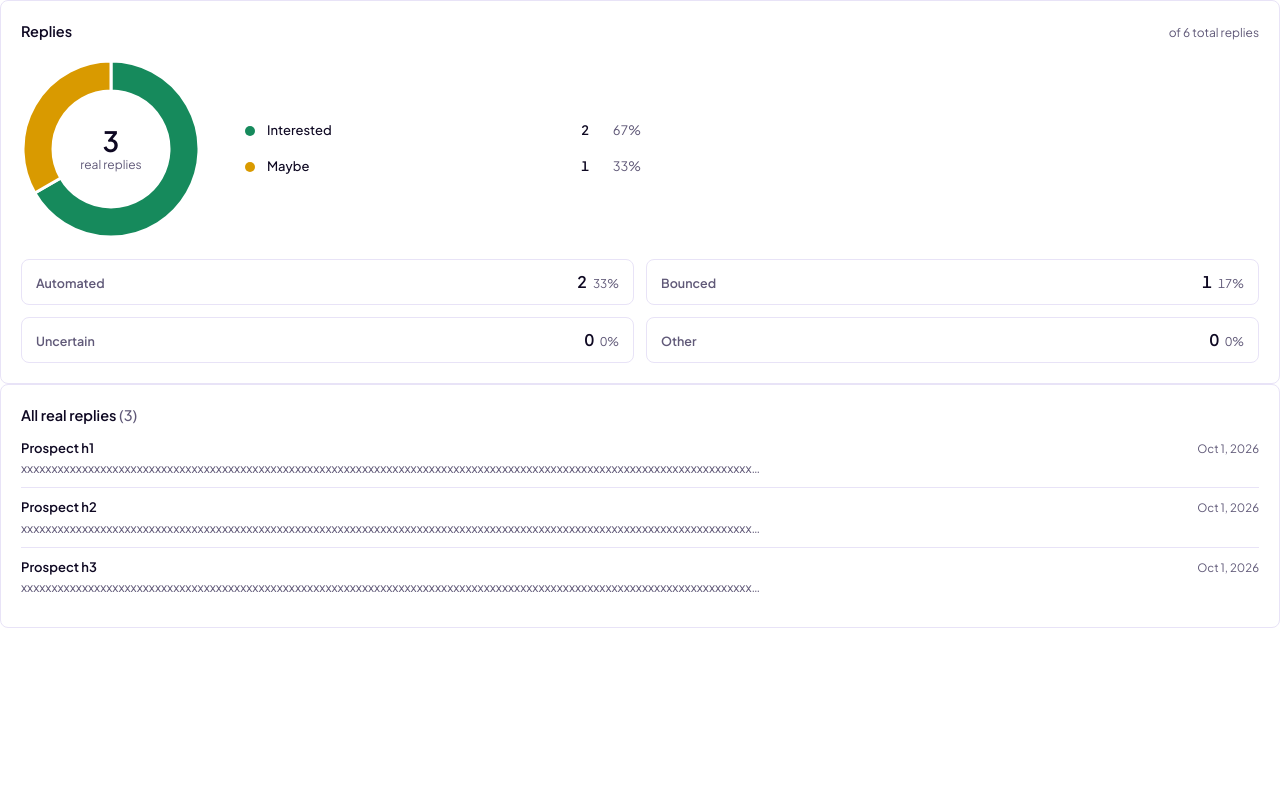
Test case: ReplyBreakdown › filters to automated replies from the tile
Step 1. Click the button "Automated 233%" → {"x": 70, "y": 283}, box left=21, top=259, right=634, bottom=305
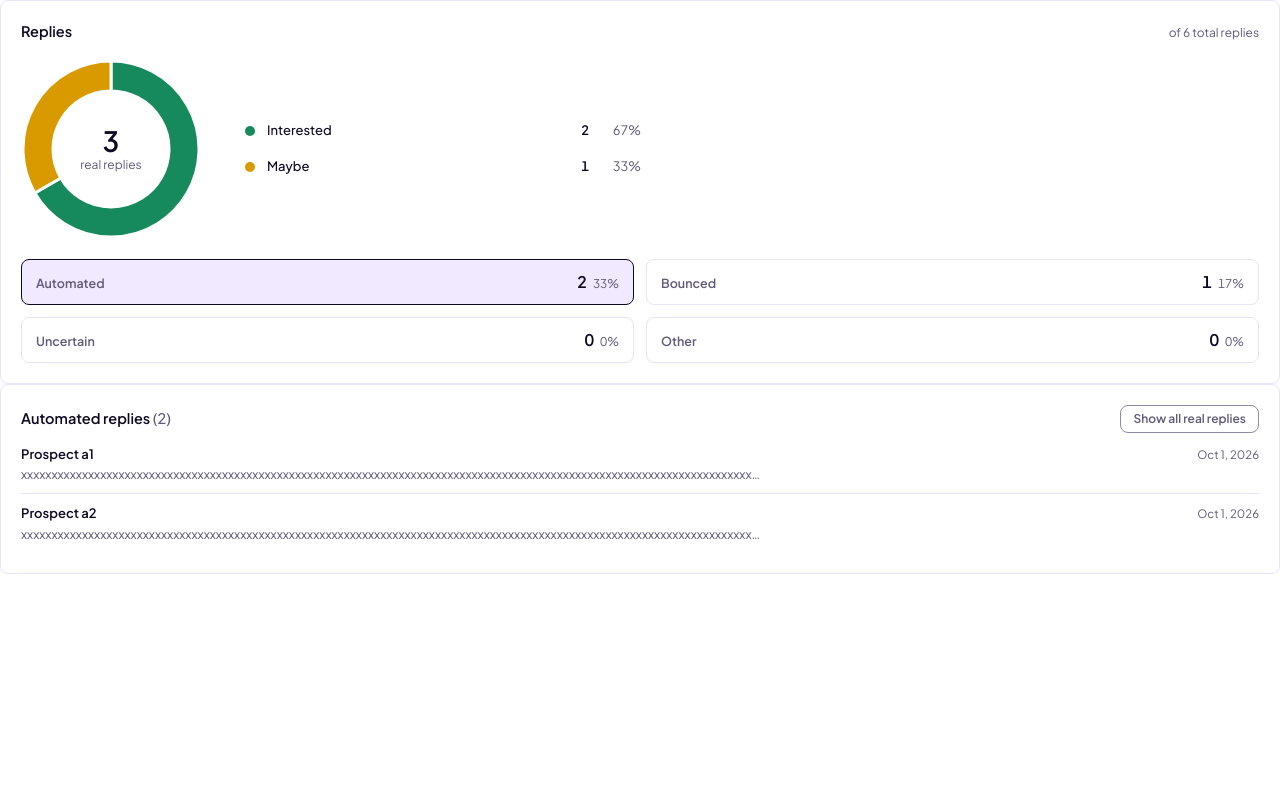
Now the text "Prospect a1" is shown, box left=21, top=445, right=94, bottom=464
Now the text "Prospect h1" is gone
